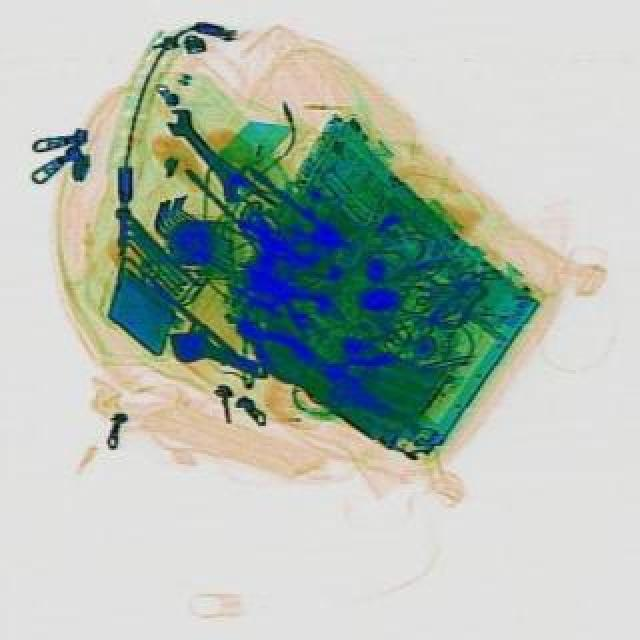scissors: (152, 102, 256, 206)
wrench: (220, 304, 312, 388)
